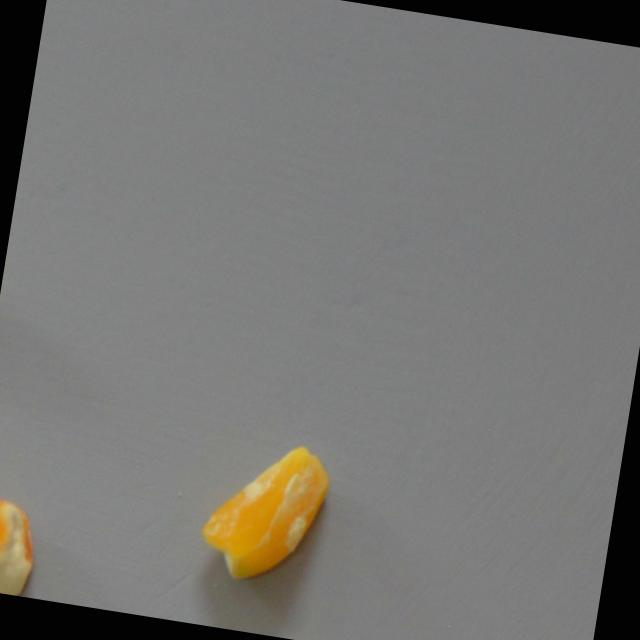dañado: (191, 427, 340, 595), (0, 494, 53, 599)
